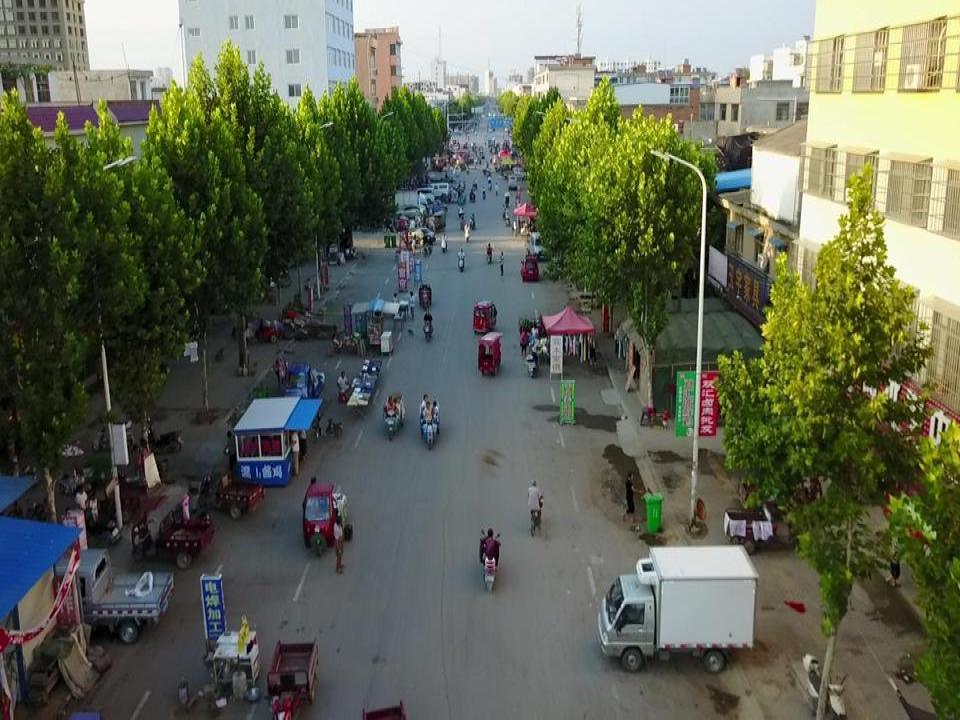car: (403, 227, 436, 244), (520, 255, 540, 281), (421, 183, 449, 200), (396, 204, 425, 217)
truck: (597, 546, 759, 674), (39, 548, 174, 645), (285, 360, 325, 400), (525, 232, 550, 259)
van: (410, 188, 435, 203)
